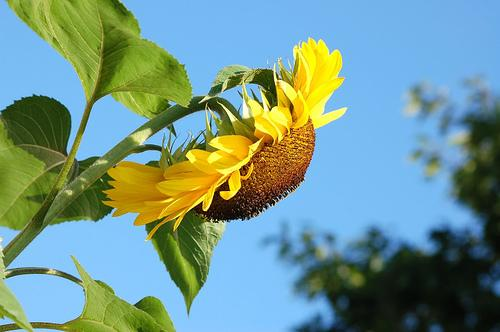sunflower: (101, 34, 353, 247)
